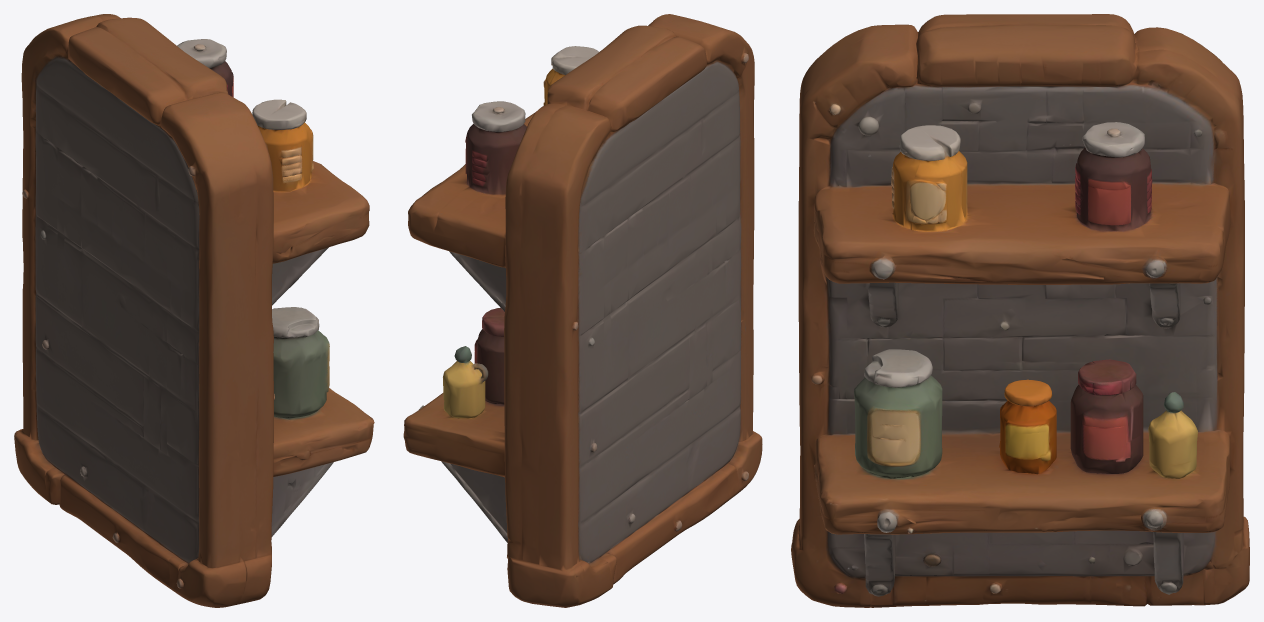
File: wall_shelf.glb
3 views of the same model, side by side, from view 1: azimuth 30°, elevation 25°; view 2: azimuth 150°, elevation 25°; view 3: azimuth 270°, elevation 25° (orthographic). The views are drawn at different scales.
Parts seen in each view (by area): view 1: tripo_node_8df5f6da-3619-4dc9-9a5c-737310ab307e; view 2: tripo_node_8df5f6da-3619-4dc9-9a5c-737310ab307e; view 3: tripo_node_8df5f6da-3619-4dc9-9a5c-737310ab307e.
Boxes of the visible parts, box(x1,y1,x2,y2) form: tripo_node_8df5f6da-3619-4dc9-9a5c-737310ab307e: box(14, 14, 374, 607); tripo_node_8df5f6da-3619-4dc9-9a5c-737310ab307e: box(403, 14, 762, 607); tripo_node_8df5f6da-3619-4dc9-9a5c-737310ab307e: box(791, 14, 1249, 607).
Size of the model in its own units: 0.4162 by 0.9806 by 0.7211.
1 material, 1 textured.
